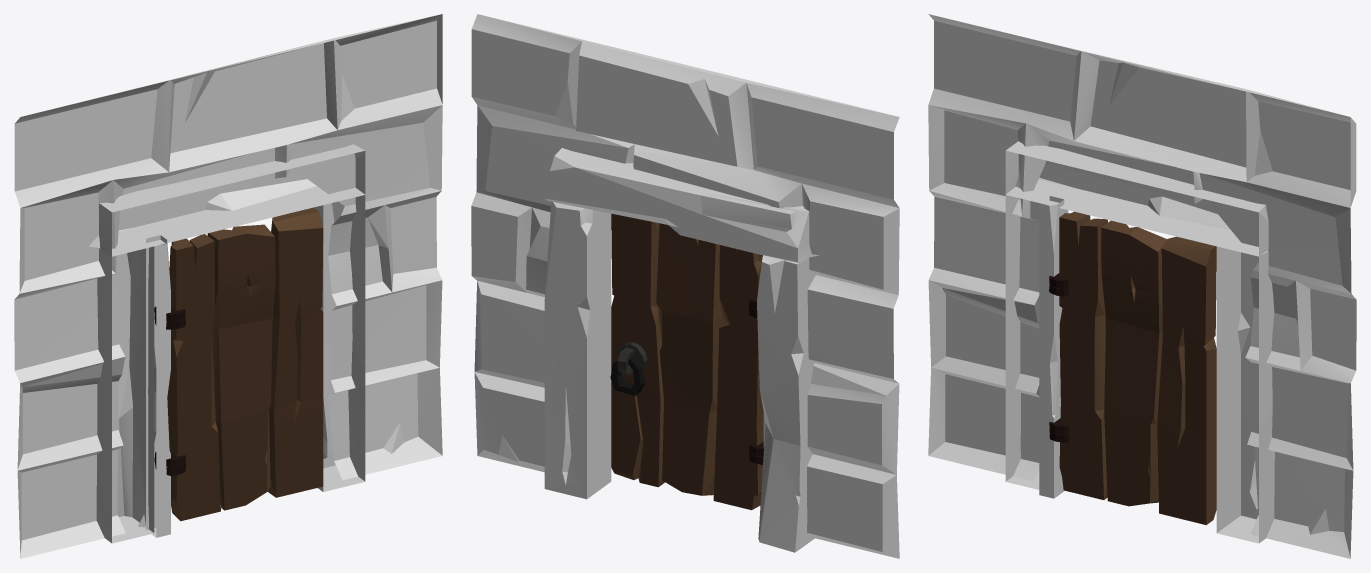
File: NGF_Env_Wooden_doorway_05.fbx
The picture shows the model from 3 angles, left to right: view 1: azimuth 30°, elevation 25°; view 2: azimuth 150°, elevation 25°; view 3: azimuth 330°, elevation 25°; orthographic projection.
Visible parts, largest first — view 1: NGF_Env_Wooden_doorway_05, NGF_Env_Door_10, NGF_Env_Door_attachment_04; view 2: NGF_Env_Wooden_doorway_05, NGF_Env_Door_10, NGF_Env_Handle_10, NGF_Env_Handle_attachment_10; view 3: NGF_Env_Wooden_doorway_05, NGF_Env_Door_10, NGF_Env_Door_attachment_04.
Boxes of the visible parts, bbox=[...] form: NGF_Env_Wooden_doorway_05: bbox=[14, 14, 442, 558]; NGF_Env_Door_10: bbox=[167, 207, 323, 521]; NGF_Env_Door_attachment_04: bbox=[146, 235, 170, 537]; NGF_Env_Wooden_doorway_05: bbox=[471, 14, 899, 558]; NGF_Env_Door_10: bbox=[611, 213, 763, 510]; NGF_Env_Handle_10: bbox=[610, 356, 645, 395]; NGF_Env_Handle_attachment_10: bbox=[617, 342, 647, 374]; NGF_Env_Wooden_doorway_05: bbox=[928, 14, 1356, 558]; NGF_Env_Door_10: bbox=[1059, 211, 1216, 525]; NGF_Env_Door_attachment_04: bbox=[1039, 196, 1064, 498].
Bounding box in the file's own units: 4 × 4 × 0.5824.
1 material, 1 textured.
